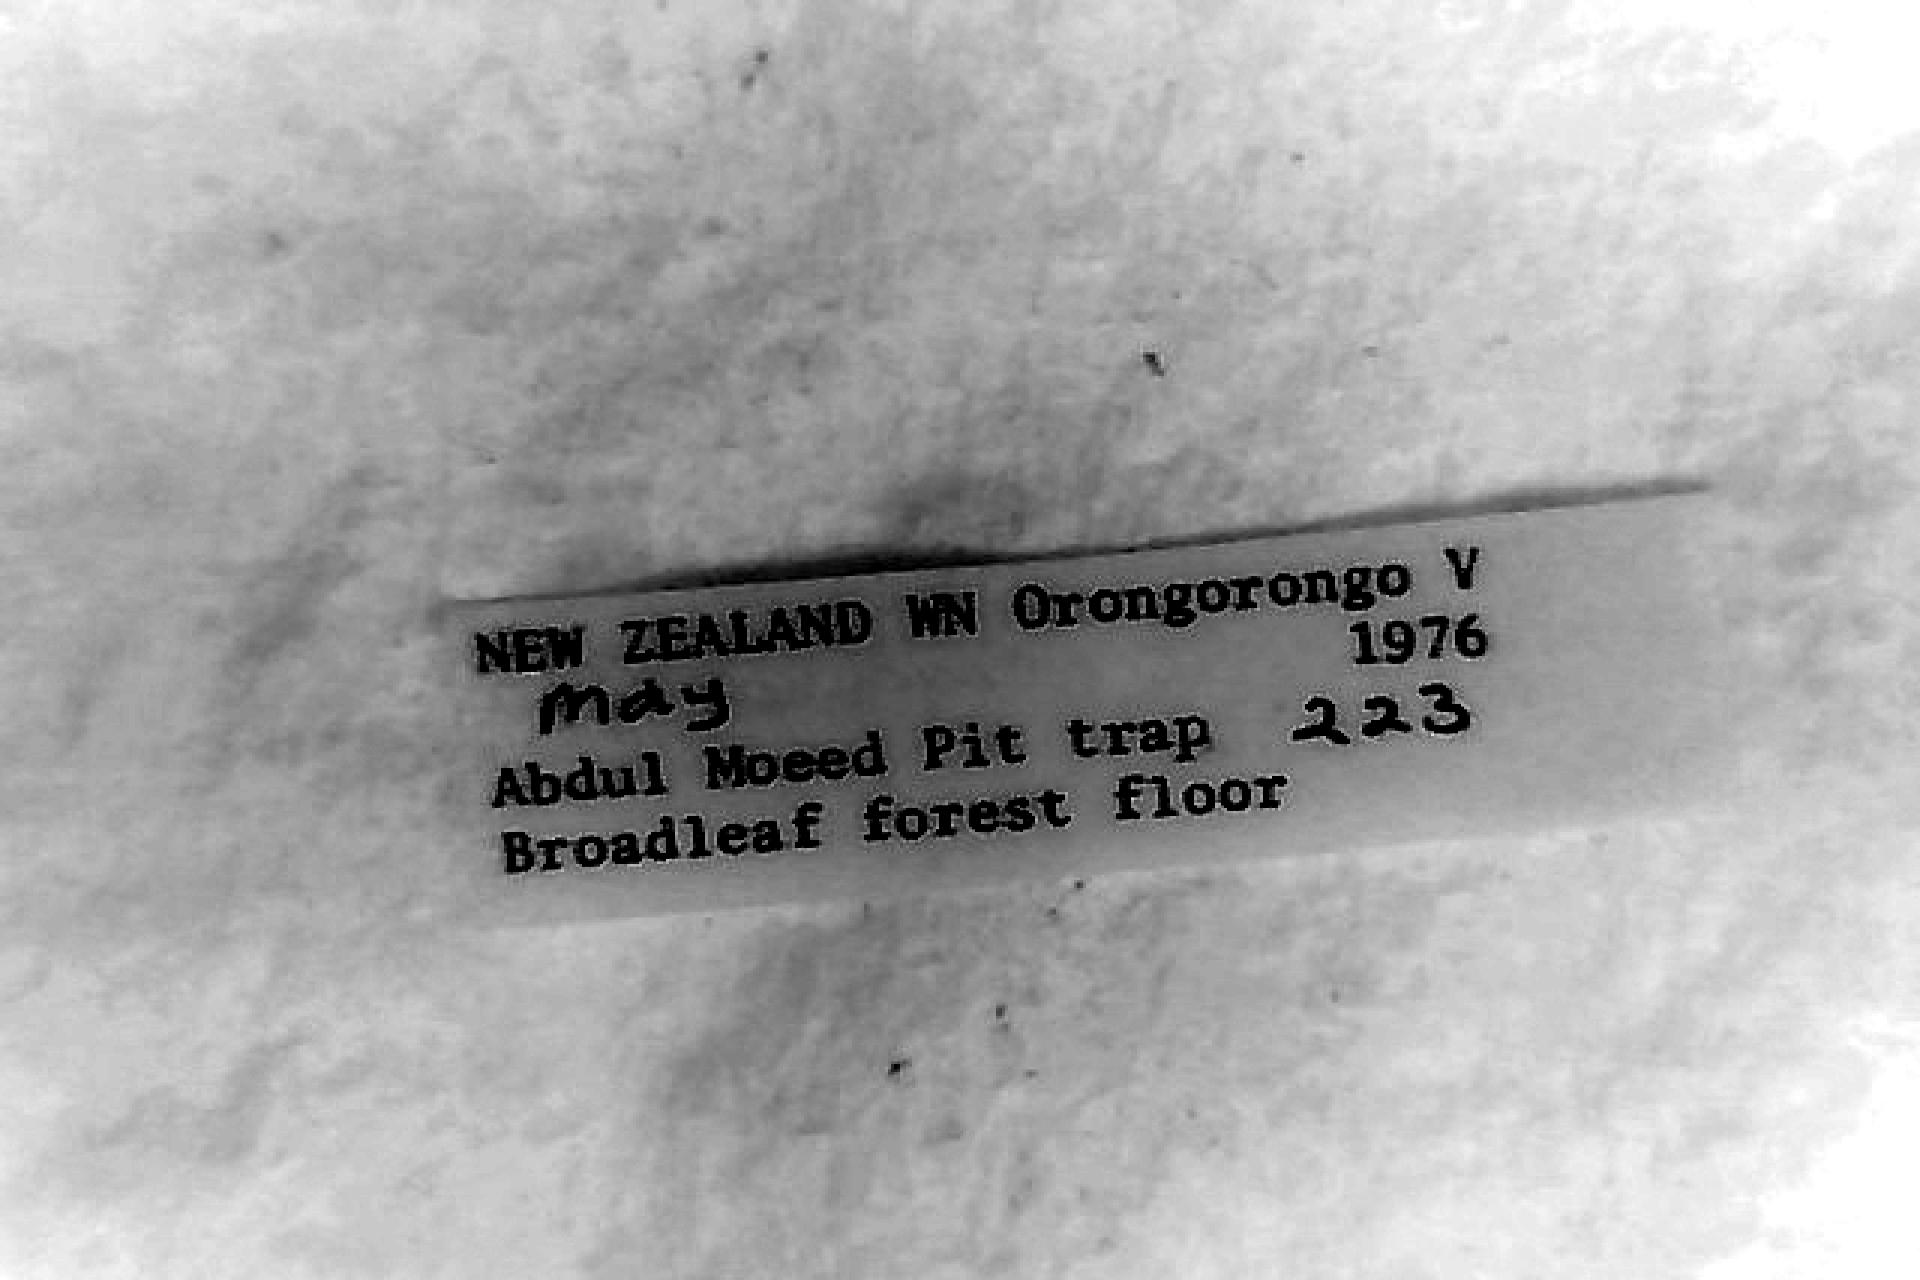mixed_label: (450, 493, 1726, 914)
